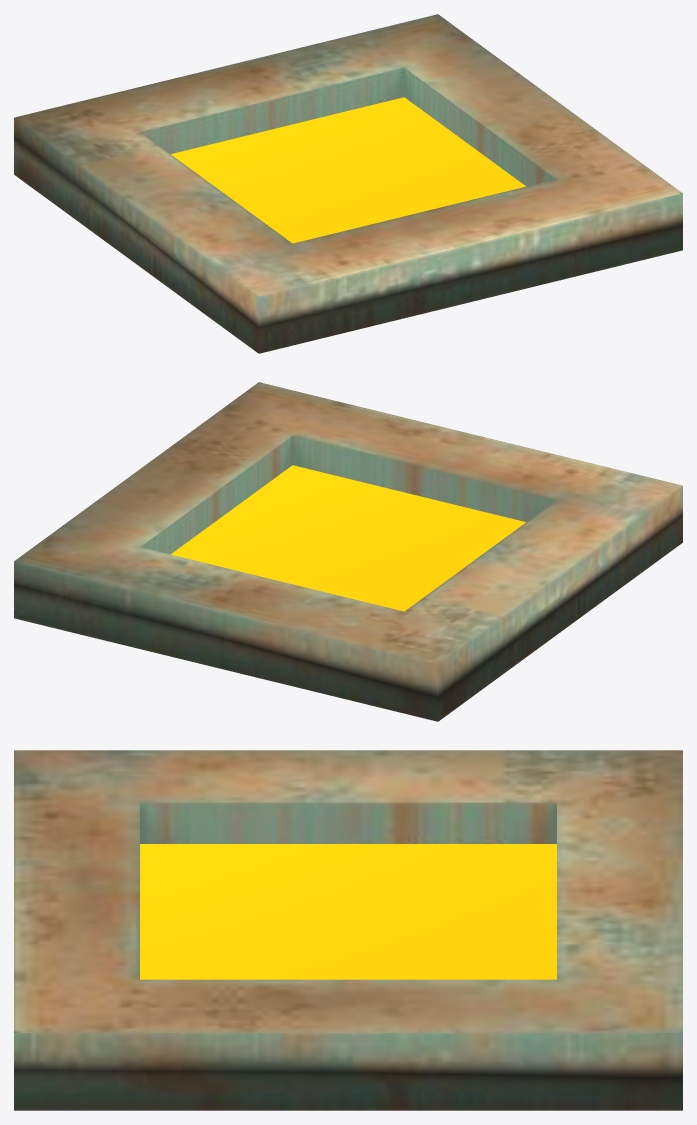
The model's file is cb9e94b3-99b6-4cd1-a49e-45a0abd3fe97.glb.
3 views of the same model, one above another, from view 1: azimuth 30°, elevation 25°; view 2: azimuth 150°, elevation 25°; view 3: azimuth 270°, elevation 25° (orthographic). The views are drawn at different scales.
Visible parts, largest first — view 1: steampunkPickupFlagBaseA; view 2: steampunkPickupFlagBaseA; view 3: steampunkPickupFlagBaseA.
Part boxes in pixels (box(x1,y1,x2,y2)): steampunkPickupFlagBaseA: box(14, 14, 682, 353); steampunkPickupFlagBaseA: box(14, 382, 682, 721); steampunkPickupFlagBaseA: box(14, 750, 682, 1110).
Bounding box in the file's own units: 0.4835 × 0.0621 × 0.4835.
Materials: 2 (1 with a texture image).
